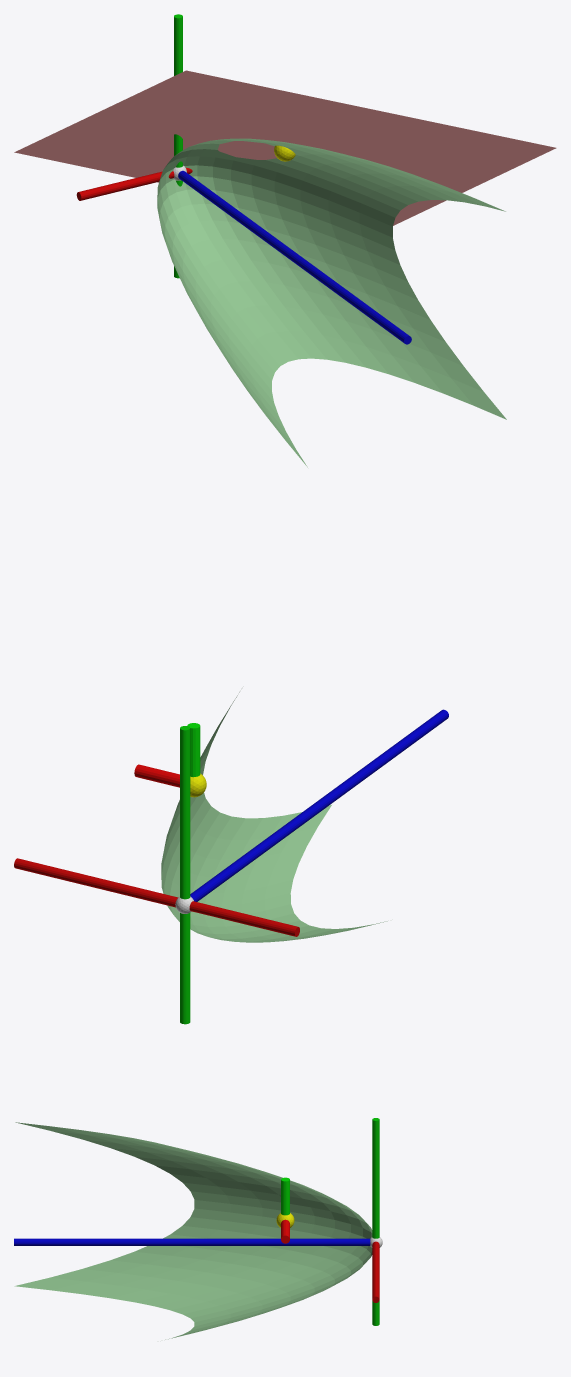
File: tangent_planes.glb
3 renders of one model, top to bottom at view 1: azimuth 30°, elevation 25°; view 2: azimuth 150°, elevation 25°; view 3: azimuth 270°, elevation 25°, orthographic. The views are drawn at different scales.
Visible parts, largest first — view 1: world; view 2: world; view 3: world.
Boxes of the visible parts, x1,y1,x2,y2 form: world: (14, 14, 556, 467); world: (14, 692, 448, 1024); world: (14, 1118, 382, 1339).
Size of the model in its own units: 5 by 5 by 12.
